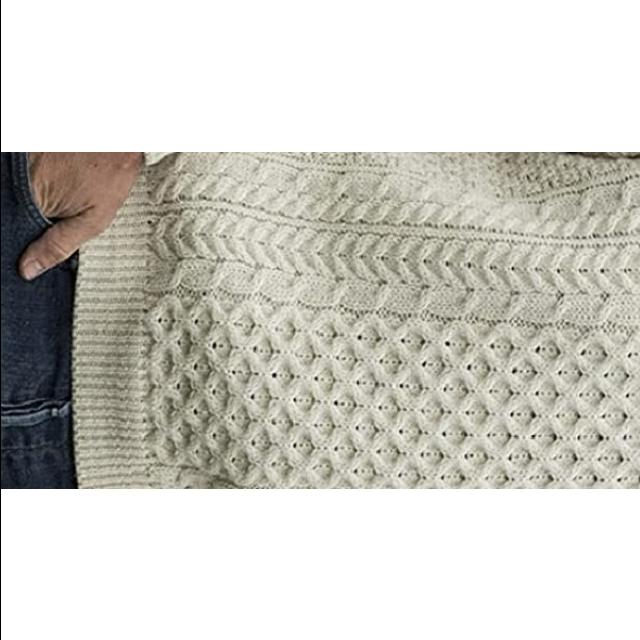wool: (120, 152, 640, 488)
